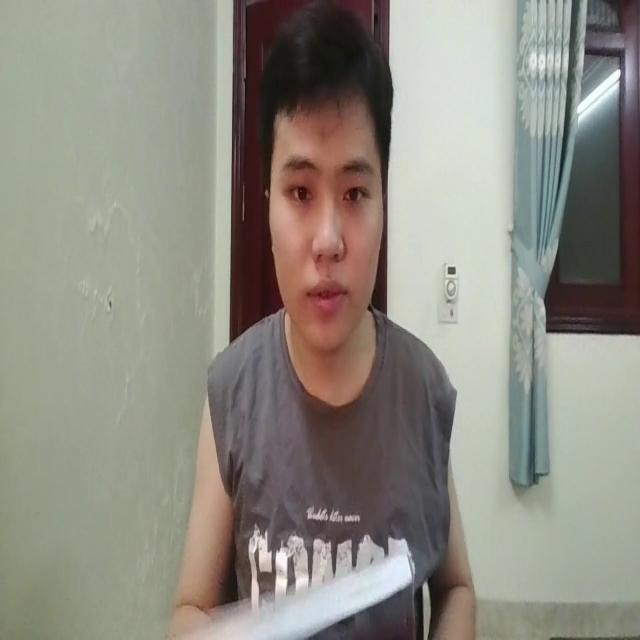book: (192, 561, 416, 640)
student: (185, 13, 473, 640)
